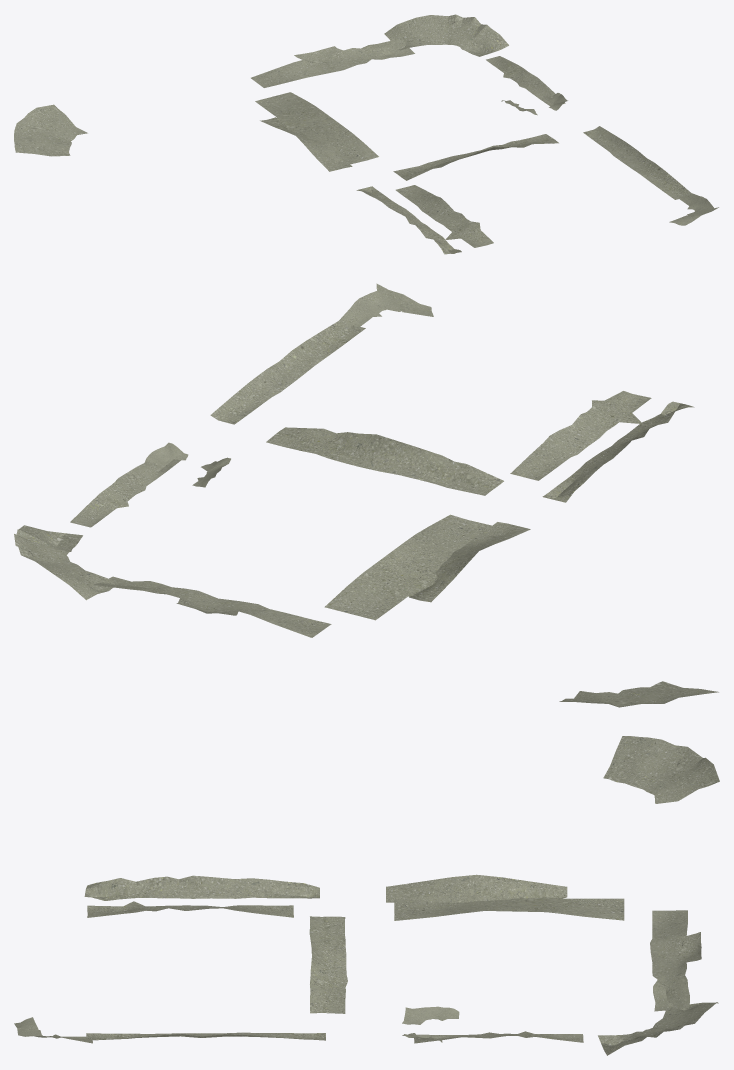
Rendered from Corridor_00_04.fbx.
The picture shows the model from 3 angles, top to bottom: view 1: azimuth 30°, elevation 25°; view 2: azimuth 150°, elevation 25°; view 3: azimuth 270°, elevation 25°; orthographic projection. The views are drawn at different scales.
Visible parts, largest first — view 1: Corridor_00_04; view 2: Corridor_00_04; view 3: Corridor_00_04.
Part boxes in pixels (box(x1,y1,x2,y2)): Corridor_00_04: box(14, 14, 718, 254); Corridor_00_04: box(14, 283, 718, 707); Corridor_00_04: box(14, 736, 719, 1055).
Bounding box in the file's own units: 4100 × 155 × 3949.
